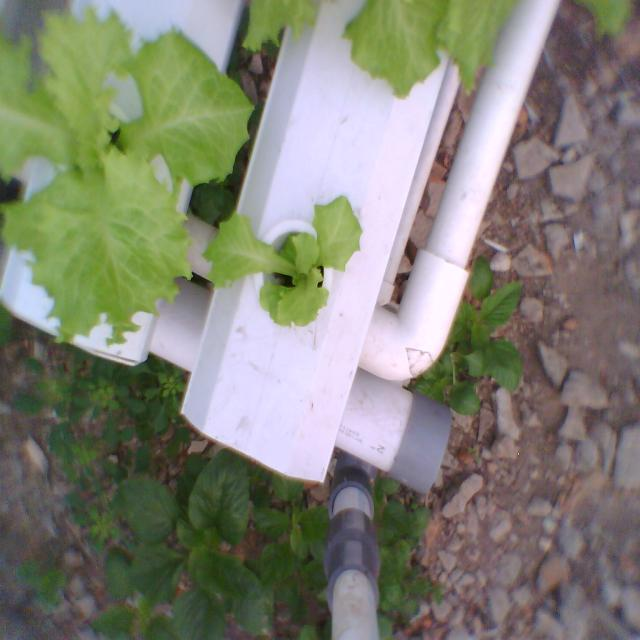FN: (0, 0, 260, 355), (204, 181, 366, 336)
